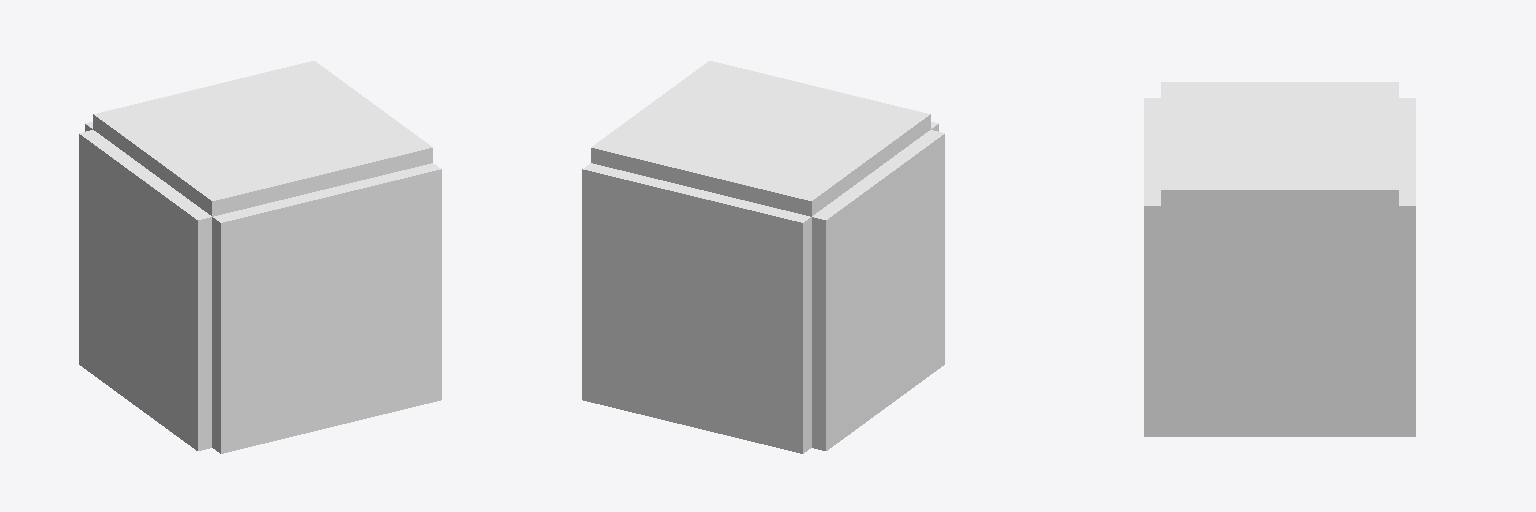
Rendered from Grass1.obj.
3 views of the same model, side by side, from view 1: azimuth 30°, elevation 25°; view 2: azimuth 150°, elevation 25°; view 3: azimuth 270°, elevation 25° (orthographic).
Visible parts, largest first — view 1: object 1; view 2: object 1; view 3: object 1.
Boxes of the visible parts, <box> form: object 1: <box>79,61,441,453</box>; object 1: <box>582,61,944,453</box>; object 1: <box>1144,82,1415,436</box>.
Size of the model in its own units: 1.6 by 1.6 by 1.6.